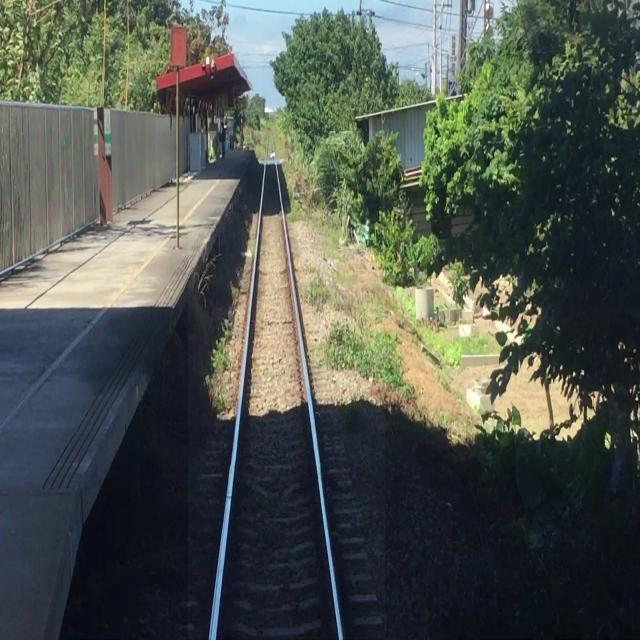rail: (189, 133, 386, 640)
